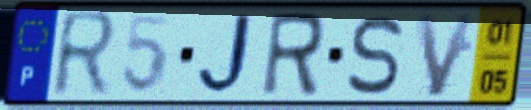5: (119, 12, 175, 97)
J: (194, 11, 262, 100)
R: (49, 7, 123, 102), (257, 9, 327, 100)
S: (343, 13, 407, 98)
V: (413, 10, 480, 101)
